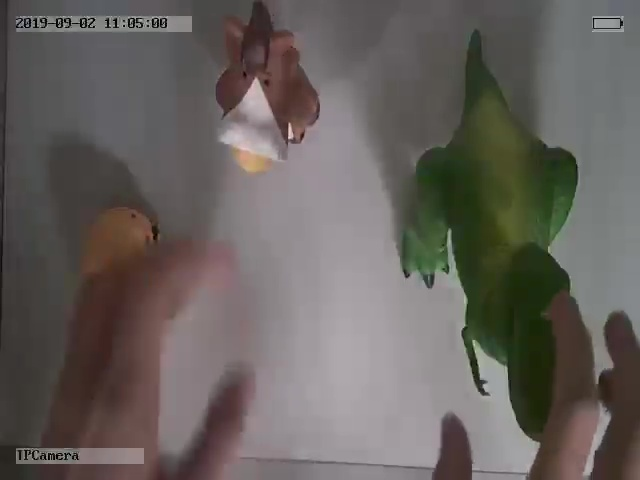horse: (214, 6, 321, 174)
rex: (402, 50, 580, 441)
